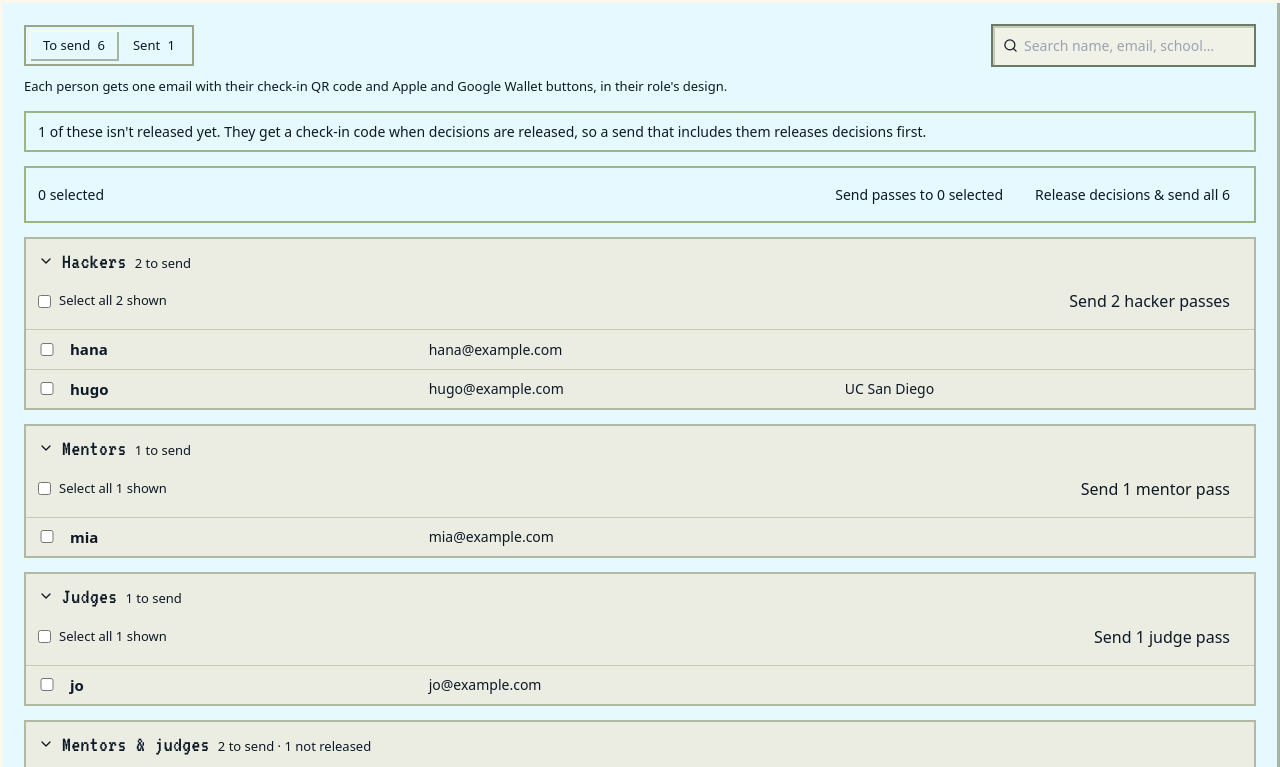
PassesPage › sends one role, naming exactly who
Click the button "Send 1 mentor pass" at (1155, 488), box [1069,470,1242,506]
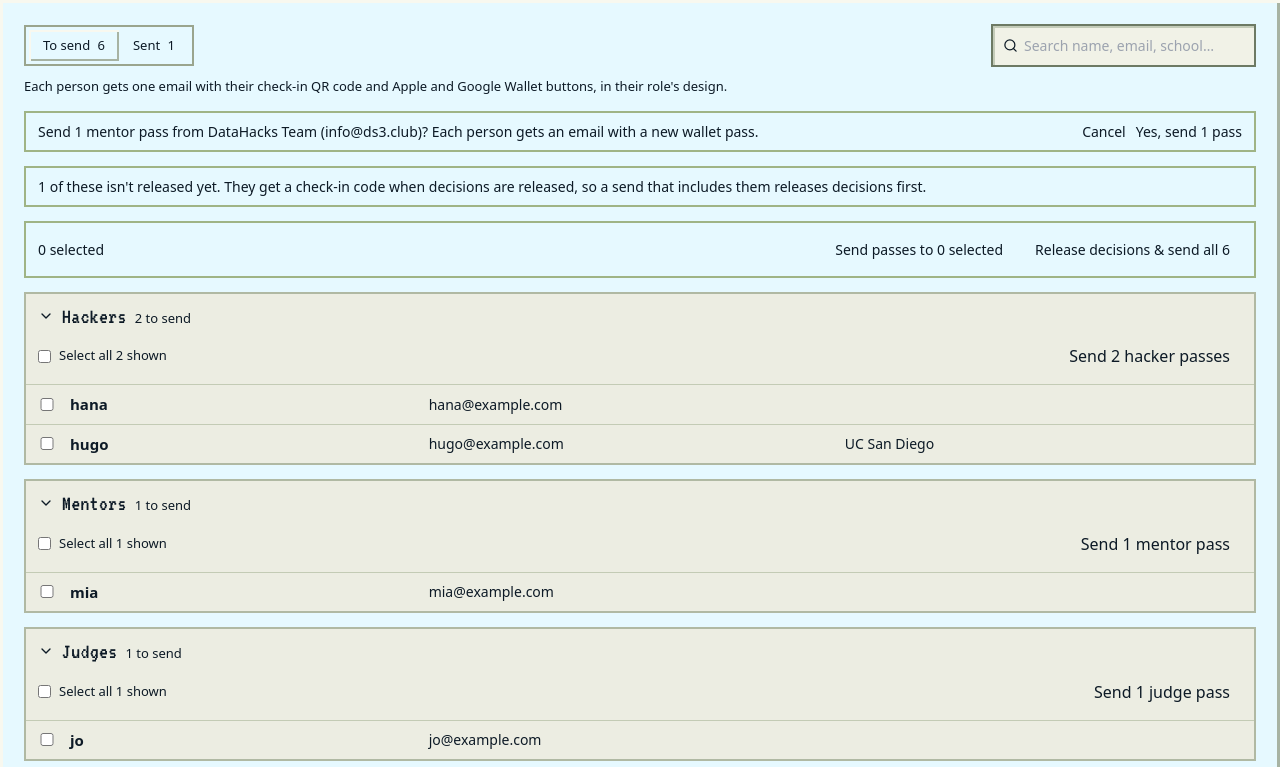
Click the button "Yes, send 1 pass" at (1189, 131), box [1136,120,1242,142]
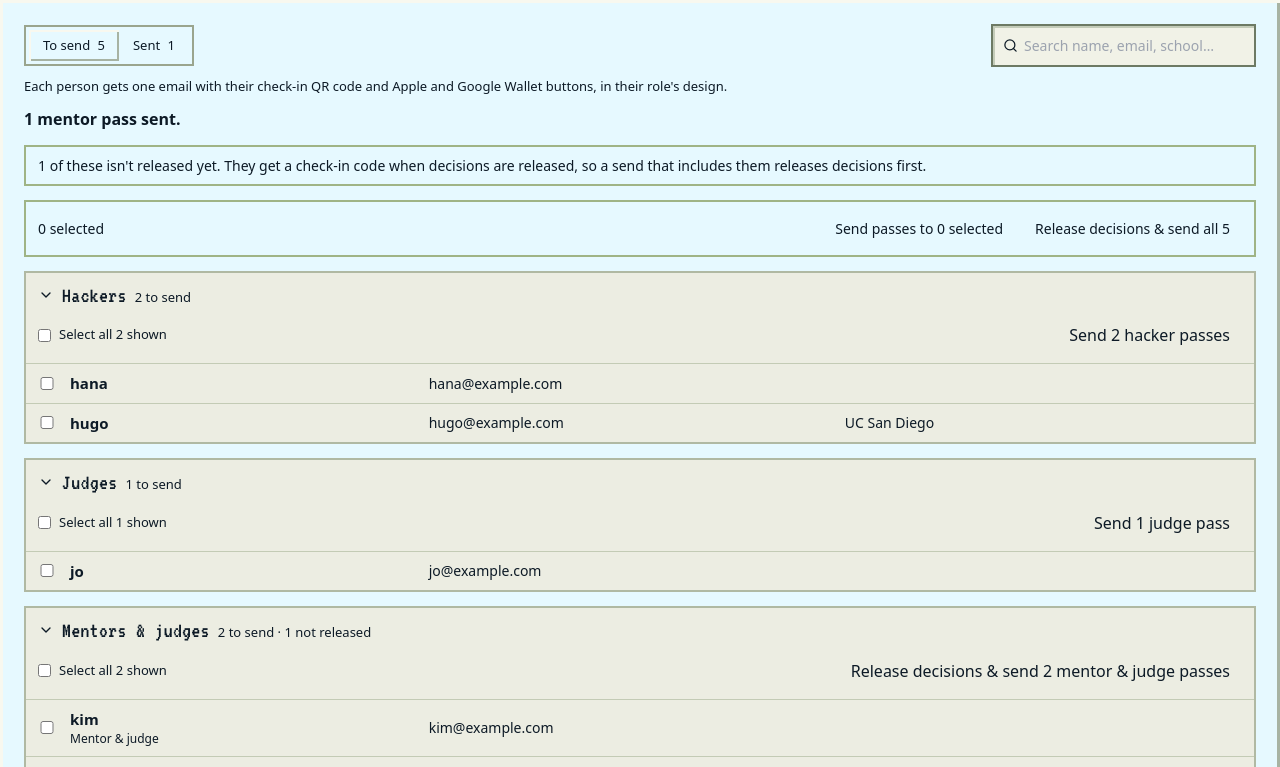
Now the text "1 mentor pass sent." is shown, box [24,108,180,130]
